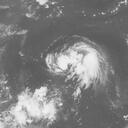cyclone: (50, 42, 105, 85)
